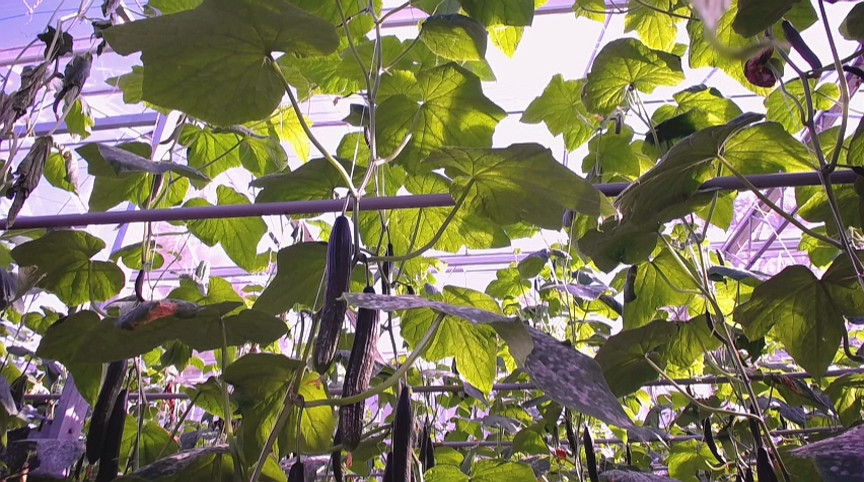cucumber: (337, 287, 380, 451), (315, 217, 353, 369), (88, 358, 129, 461), (391, 386, 418, 482), (102, 391, 131, 478), (581, 426, 599, 482)
